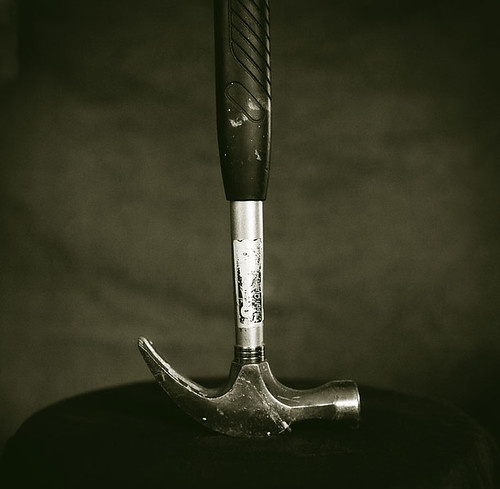hammer: (135, 1, 363, 440)
